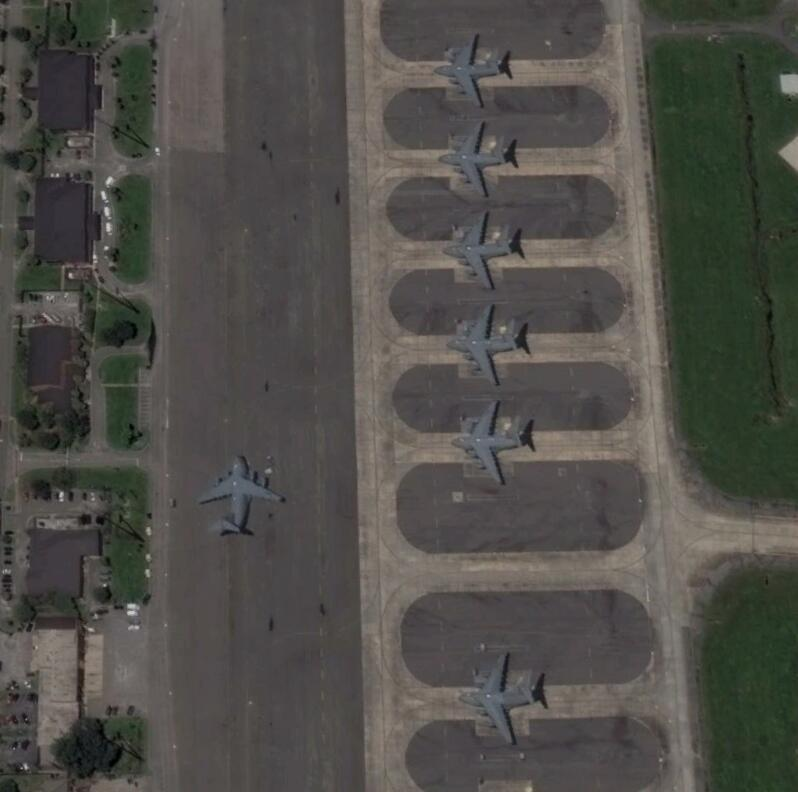A3: (458, 655, 548, 748), (194, 459, 289, 539), (450, 404, 539, 488), (442, 212, 522, 292), (446, 307, 523, 388), (438, 122, 515, 200), (435, 36, 513, 110)
